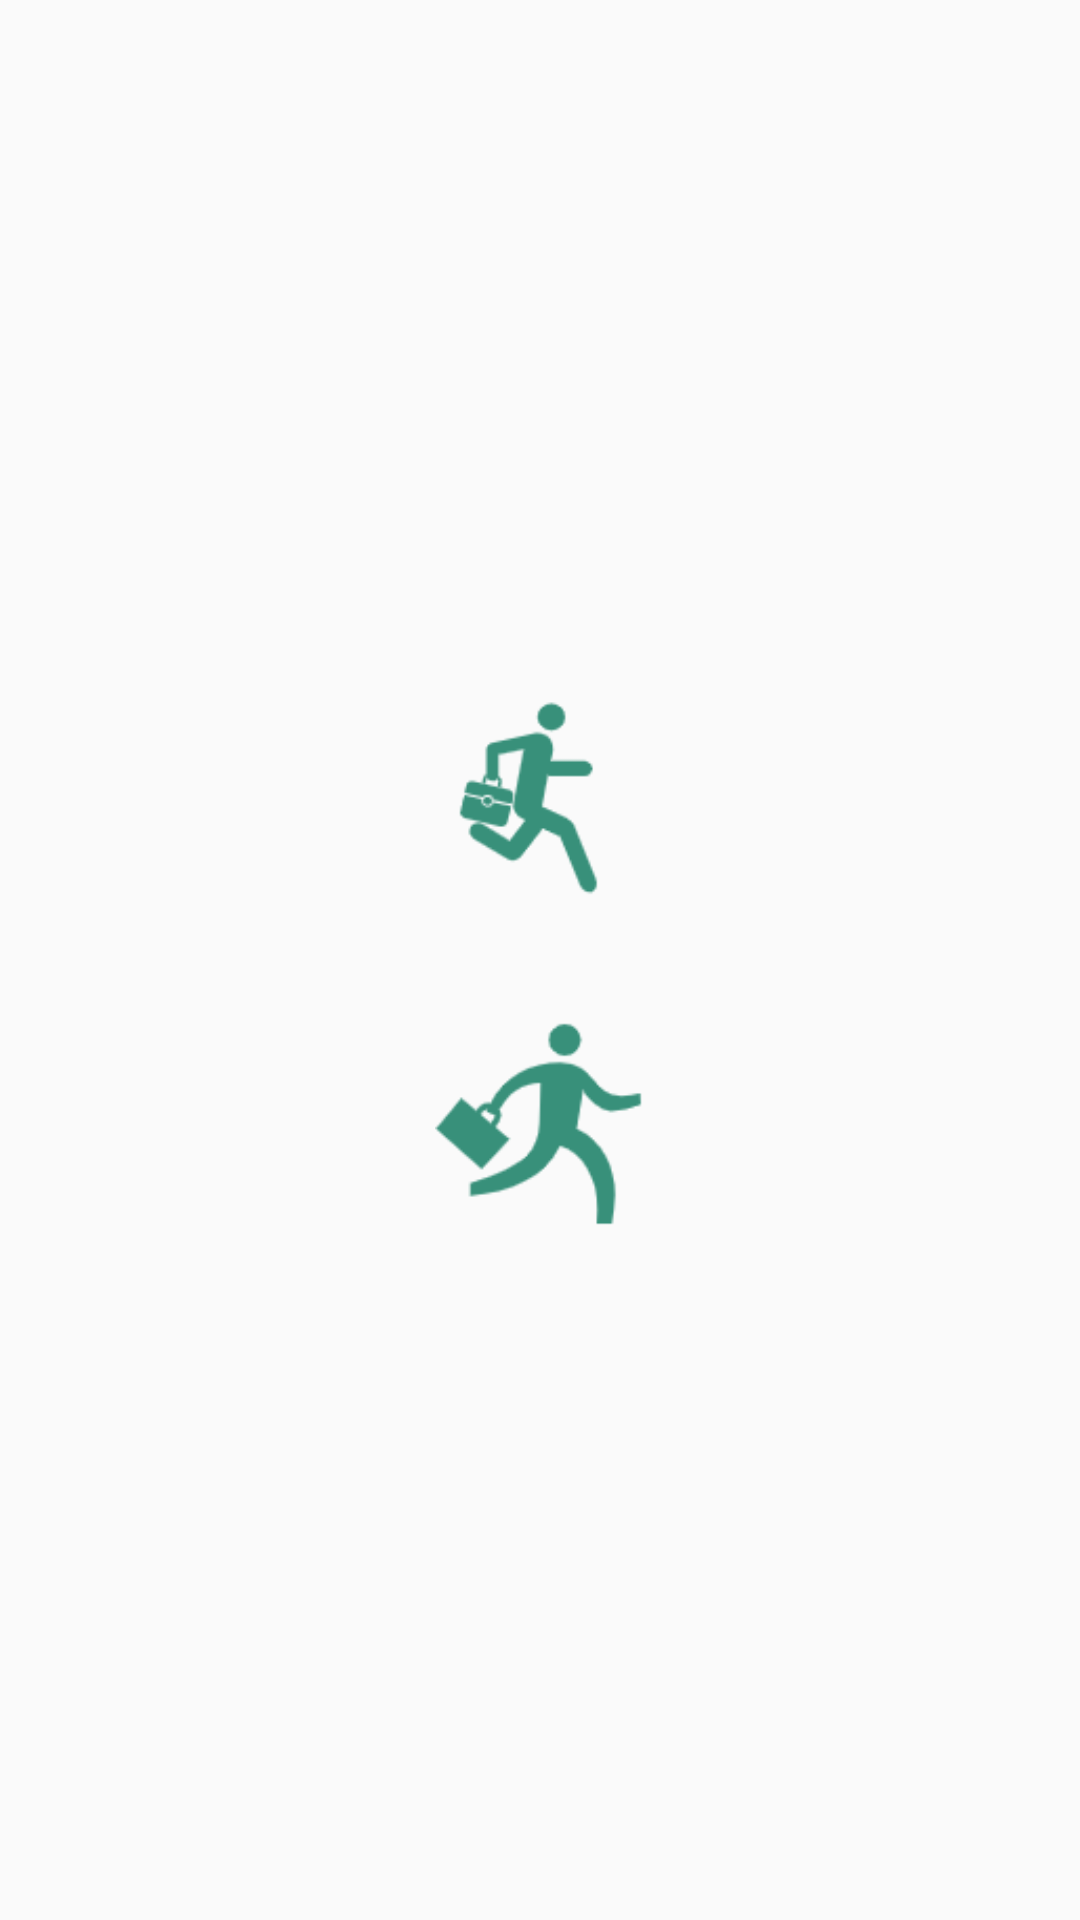

Where icons sit on this 1080×1920 app screen, as bbox(x1, y1, x2, y2):
go to work: bbox(459, 702, 597, 894)
off work: bbox(435, 1023, 642, 1224)
